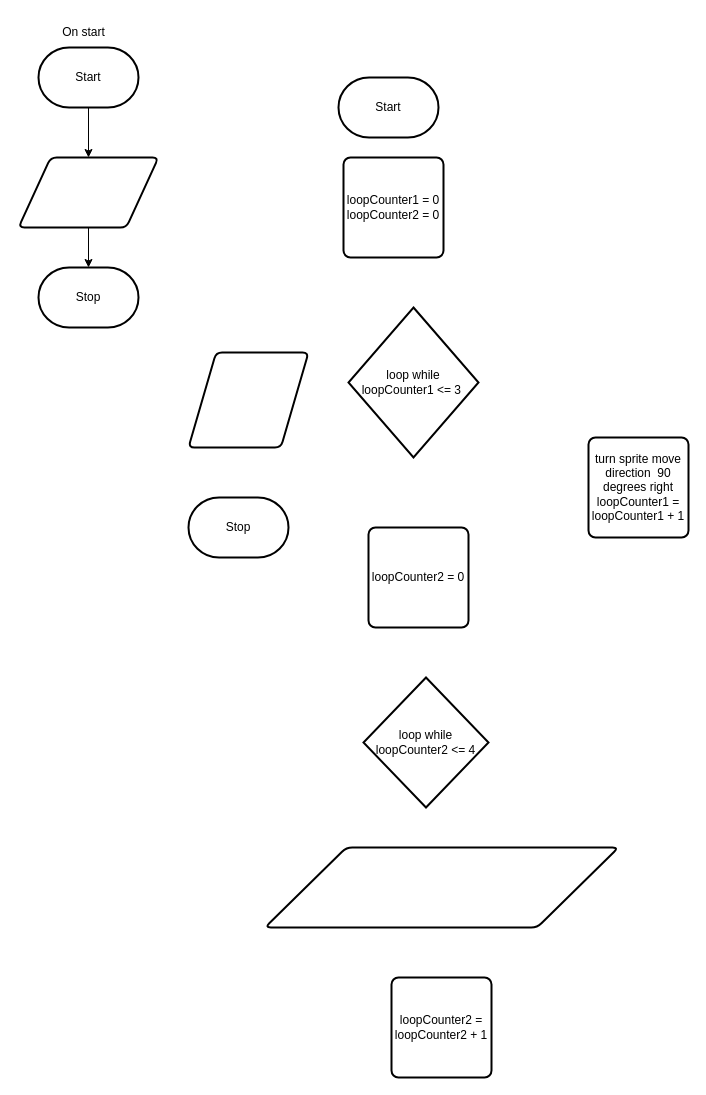
The diagram is 706 pixels wide and 1095 high, and some of its shapes have lost their labels. The box of each missing label's shape, as (x1, y1, x2, y2) in pixels:
display Happy face: (17, 156, 159, 228)
pause for half a second clear sprite from screen display happy face: (187, 351, 309, 448)
pause for half a second move one pixel sprite from left to right by one: (264, 846, 619, 928)
